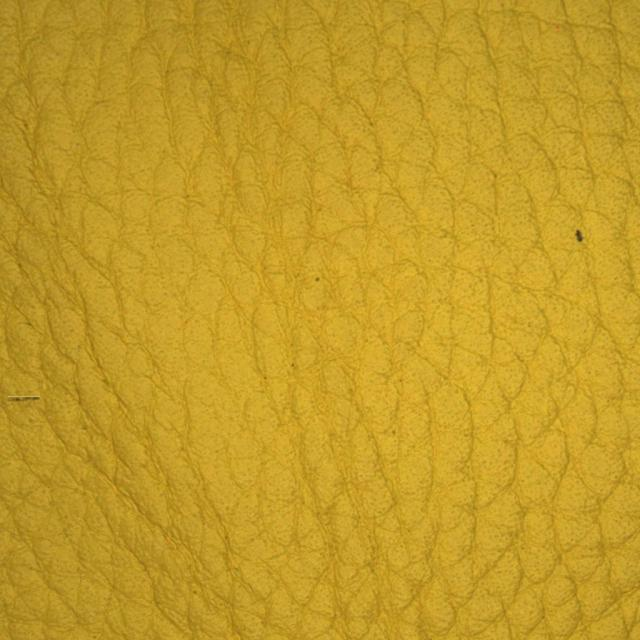Scratch: (12, 356, 106, 450)
pinhole: (461, 173, 616, 294)
